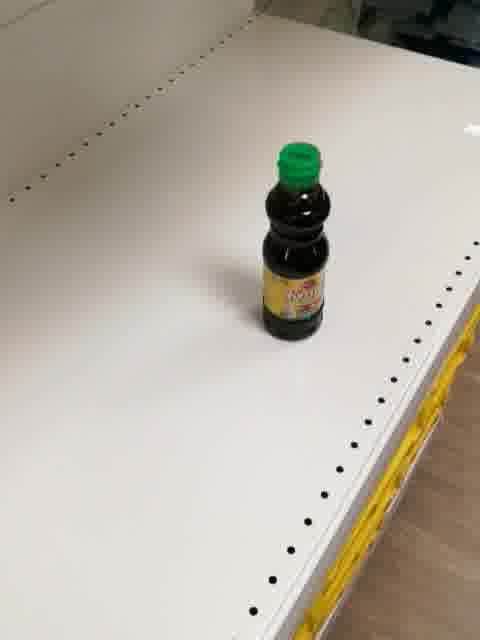cookingoil: (259, 138, 334, 343)
